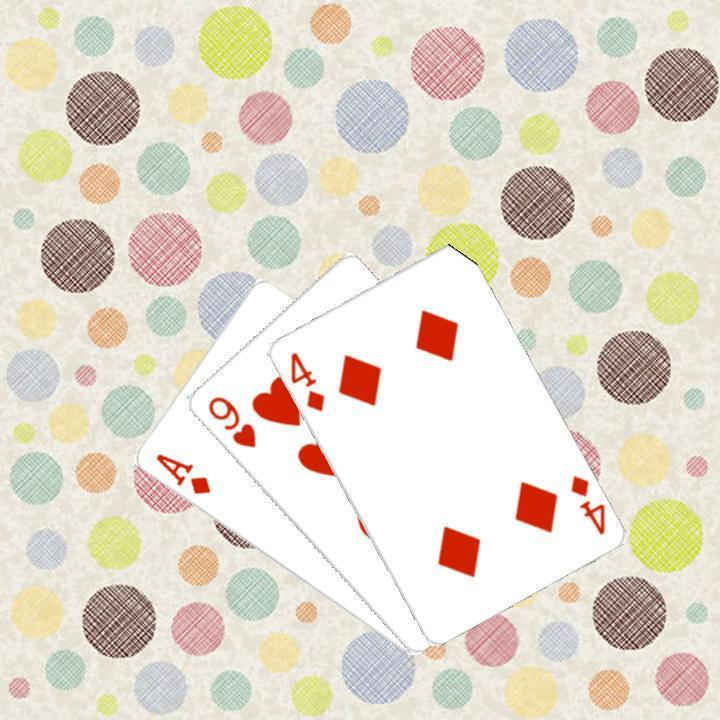4: (565, 470, 607, 537), (285, 347, 326, 414)
9: (202, 391, 258, 450)
A: (150, 449, 212, 497)
